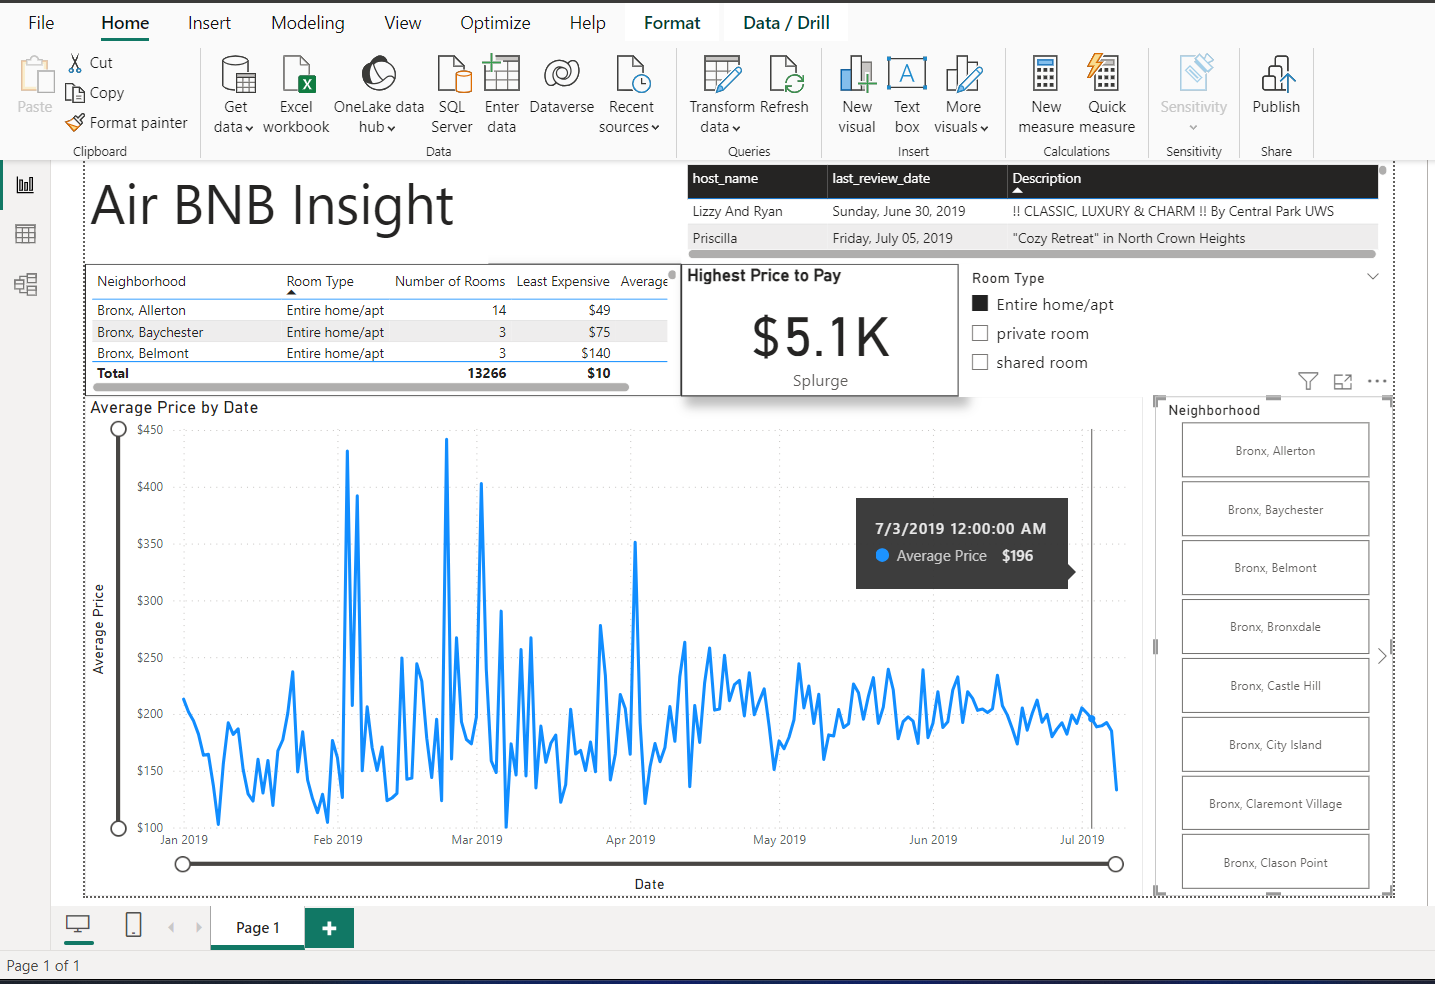

The page's visual inventory and layout, read from the dashboard file:
{"tool":"powerbi","page":{"name":"Page 1","canvas":[1280,720],"ordinal":0},"visuals":[{"type":"tableEx","fields":{"Values":["Airbnb Price.Neighborhood","Airbnb Room Type.Room Type","Key Measures.Number of Rooms","Key Measures.Least Expensive","Key Measures.Average Price"]},"box":[0,101.5,583.1,129.6],"z":0},{"type":"slicer","fields":{"Values":["Airbnb Price.Neighborhood"]},"box":[1046.2,231.2,233.8,488.8],"z":1000},{"type":"lineChart","fields":{"Category":["Date Table.Date"],"Y":["Key Measures.Average Price"]},"box":[0,231,1035.4,489],"z":2000},{"type":"card","title":"Highest Price to Pay","fields":{"Values":["Key Measures.Top 3 Most Expensive Neighborhood"]},"box":[583.1,101.5,271.4,129.6],"z":3000},{"type":"tableEx","fields":{"Values":["Airbnb Last Review.host_name","Airbnb Last Review.last_review_date","Airbnb Room Type.Description"]},"box":[582.9,0,695.7,101.4],"z":4000},{"type":"slicer","fields":{"Values":["Airbnb Room Type.Room Type"]},"box":[854.3,101.4,424.3,130],"z":5000},{"type":"textbox","box":[0,0,394.3,101.4],"z":6000}]}

Visuals, with their boxes on the page's 1280x720 design canvas (x1, y1, x2, y2). These are canvas units, not pixel positions in the 1435x984 screenshot, which may show the page scaled, cropped or inside an application window:
tableEx - Airbnb Price.Neighborhood x Airbnb Room Type.Room Type: (x1=0, y1=102, x2=583, y2=231)
slicer - Airbnb Price.Neighborhood: (x1=1046, y1=231, x2=1280, y2=720)
lineChart - Date Table.Date x Key Measures.Average Price: (x1=0, y1=231, x2=1035, y2=720)
"Highest Price to Pay" card: (x1=583, y1=102, x2=854, y2=231)
tableEx - Airbnb Last Review.host_name x Airbnb Last Review.last_review_date: (x1=583, y1=0, x2=1279, y2=101)
slicer - Airbnb Room Type.Room Type: (x1=854, y1=101, x2=1279, y2=231)
textbox: (x1=0, y1=0, x2=394, y2=101)
